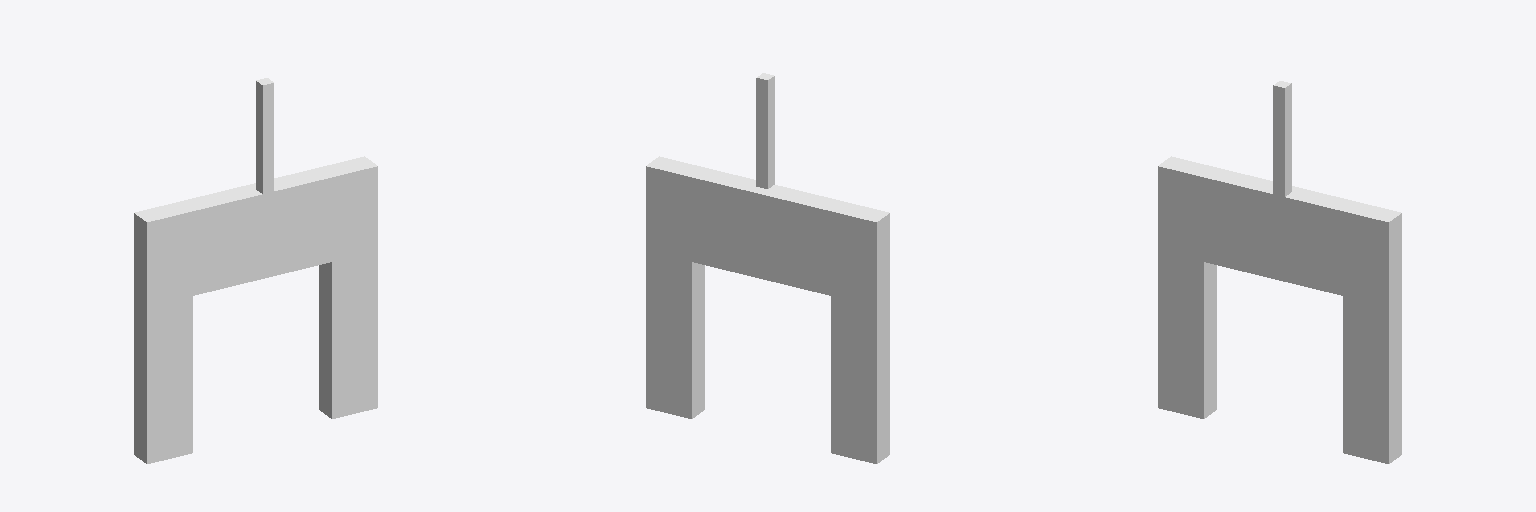
Rendered from doorway.obj.
The picture shows the model from 3 angles: view 1: azimuth 30°, elevation 25°; view 2: azimuth 150°, elevation 25°; view 3: azimuth 330°, elevation 25°; orthographic projection.
Visible parts, largest first — view 1: object 1; view 2: object 1; view 3: object 1.
Part boxes in pixels (x1,y1,x2,y2): object 1: (134,78,377,463); object 1: (646,73,889,463); object 1: (1158,81,1401,463).
Bounding box in the file's own units: 2 × 2.9 × 0.2.